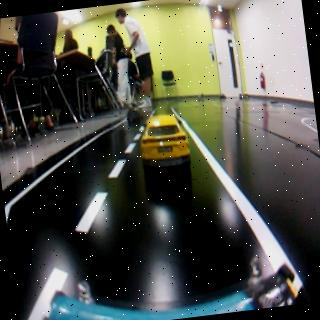car: (135, 112, 193, 176), (125, 105, 142, 123)
